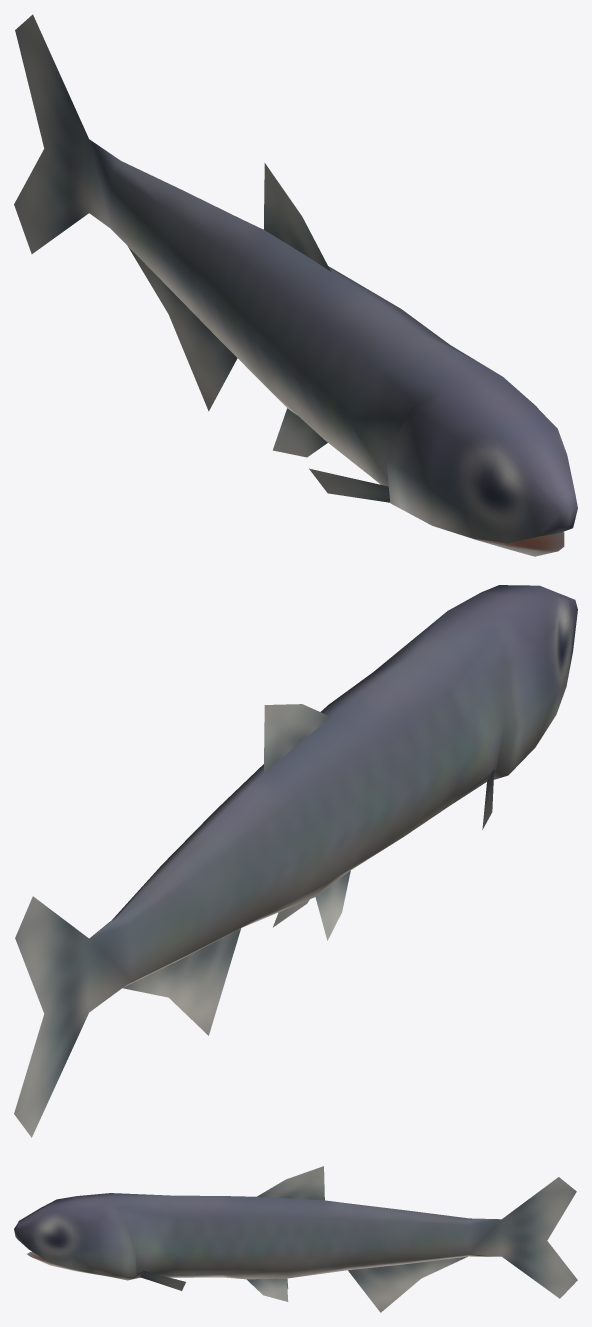
The model's file is anchovy.glb.
3 renders of one model, top to bottom at view 1: azimuth 30°, elevation 25°; view 2: azimuth 150°, elevation 25°; view 3: azimuth 270°, elevation 25°, orthographic. The views are drawn at different scales.
Parts seen in each view (by area): view 1: FishAntyobi__mAntyobi; view 2: FishAntyobi__mAntyobi; view 3: FishAntyobi__mAntyobi.
Part boxes in pixels (box(x1,y1,x2,y2)): FishAntyobi__mAntyobi: box(14, 14, 577, 556); FishAntyobi__mAntyobi: box(14, 585, 577, 1137); FishAntyobi__mAntyobi: box(14, 1166, 577, 1312).
Bounding box in the file's own units: 0.7809 × 1.18 × 4.1.
1 material, 1 textured.
